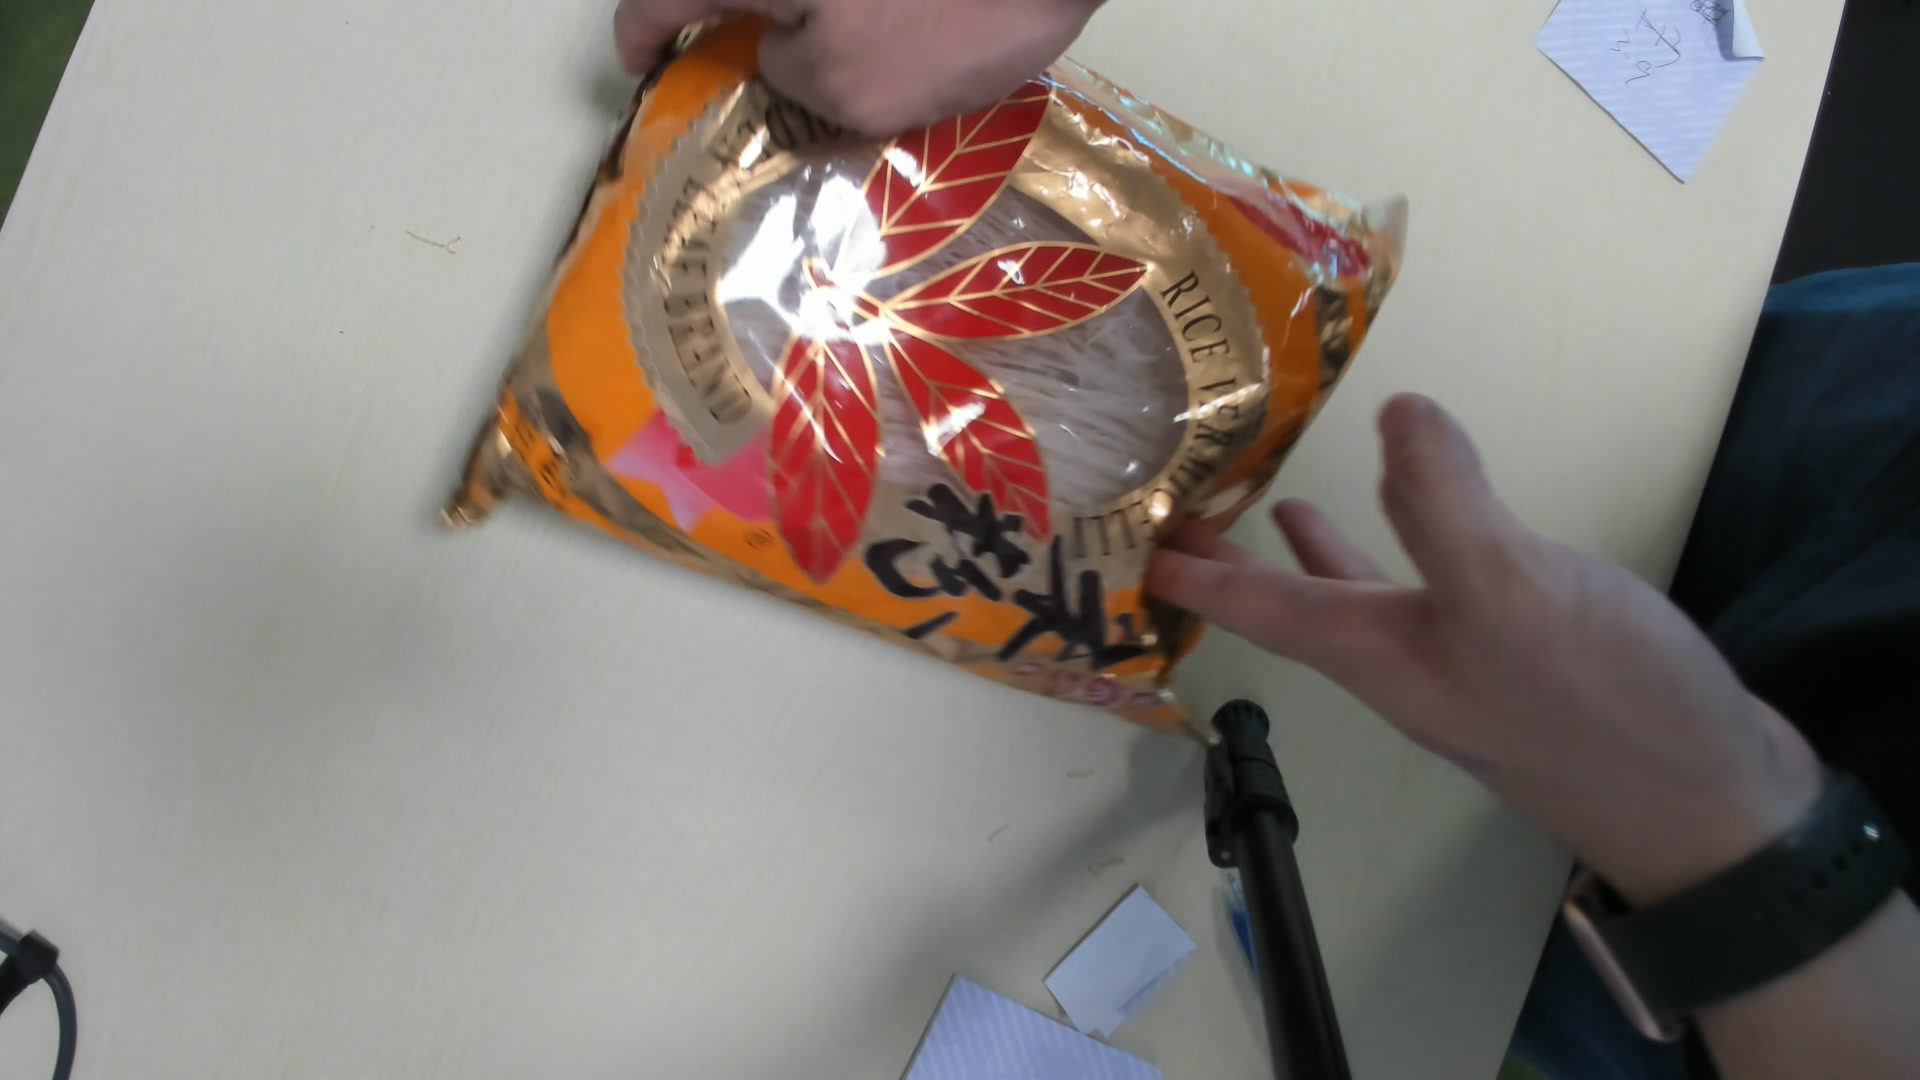OtherNoodles_400-499g_Halal_NonHealthy: (436, 3, 1411, 733)
